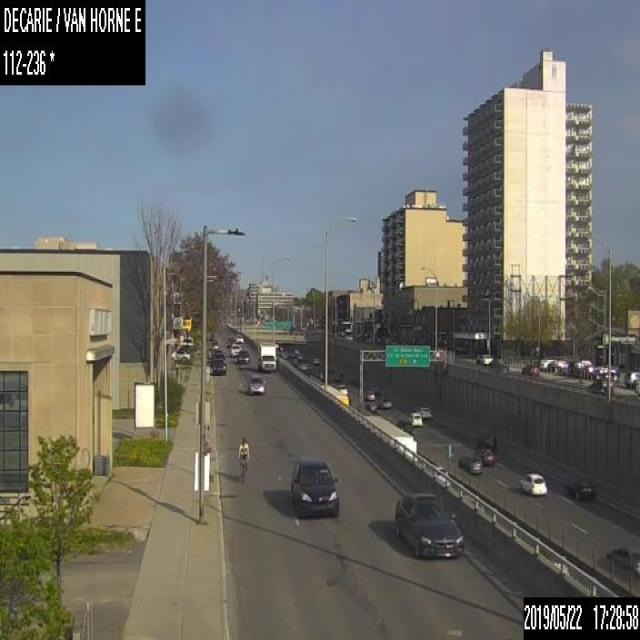cyclist: (236, 434, 250, 482)
vehicle: (392, 490, 465, 558), (289, 457, 339, 515), (364, 415, 416, 452), (605, 544, 639, 575), (319, 383, 348, 407), (564, 476, 594, 499), (519, 472, 547, 495), (258, 342, 276, 371), (457, 456, 481, 473), (587, 377, 614, 392), (472, 446, 494, 464), (247, 373, 265, 393), (477, 434, 497, 450), (488, 357, 509, 372), (212, 354, 226, 373), (624, 371, 639, 387), (521, 363, 539, 376), (172, 348, 190, 361), (396, 418, 412, 432), (408, 411, 422, 426), (476, 352, 492, 365), (416, 405, 430, 418), (539, 358, 555, 369), (378, 396, 391, 408), (229, 343, 240, 356), (336, 384, 347, 395), (238, 349, 248, 361), (212, 349, 224, 357), (365, 390, 374, 400), (235, 332, 243, 343), (210, 340, 218, 350), (311, 354, 319, 364), (227, 336, 234, 346), (209, 332, 216, 340)
